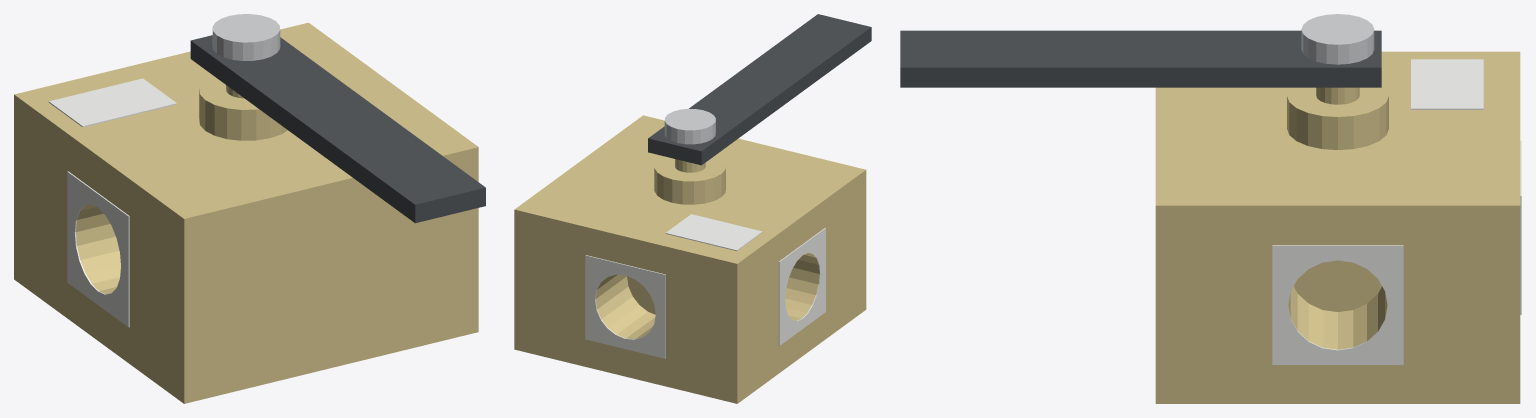
The model's file is valve-ball-32.glb.
The picture shows the model from 3 angles, left to right: view 1: azimuth 30°, elevation 25°; view 2: azimuth 150°, elevation 25°; view 3: azimuth 270°, elevation 25°; orthographic projection. The views are drawn at different scales.
Parts seen in each view (by area): view 1: body, lever, port-1; view 2: body, lever, port-2, port-1; view 3: body, lever, port-3.
Part boxes in pixels (x1=…): body: x1=14, y1=22, x2=478, y2=403; lever: x1=190, y1=14, x2=485, y2=223; port-1: x1=67, y1=171, x2=129, y2=327; body: x1=514, y1=115, x2=866, y2=403; lever: x1=648, y1=14, x2=871, y2=172; port-2: x1=585, y1=255, x2=665, y2=358; port-1: x1=778, y1=228, x2=825, y2=345; body: x1=1155, y1=51, x2=1520, y2=403; lever: x1=900, y1=14, x2=1381, y2=104; port-3: x1=1272, y1=245, x2=1403, y2=364.
Size of what is drawn, in the model's own units: 0.0504 by 0.045 by 0.0852.
